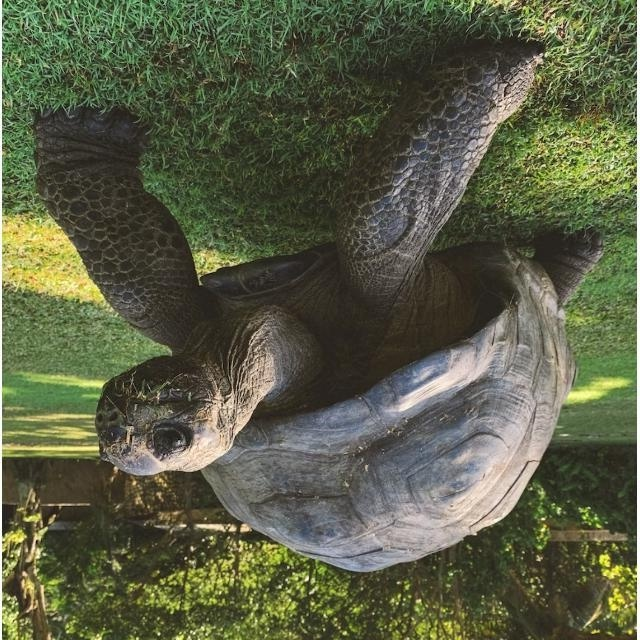turtle: (31, 42, 604, 575)
